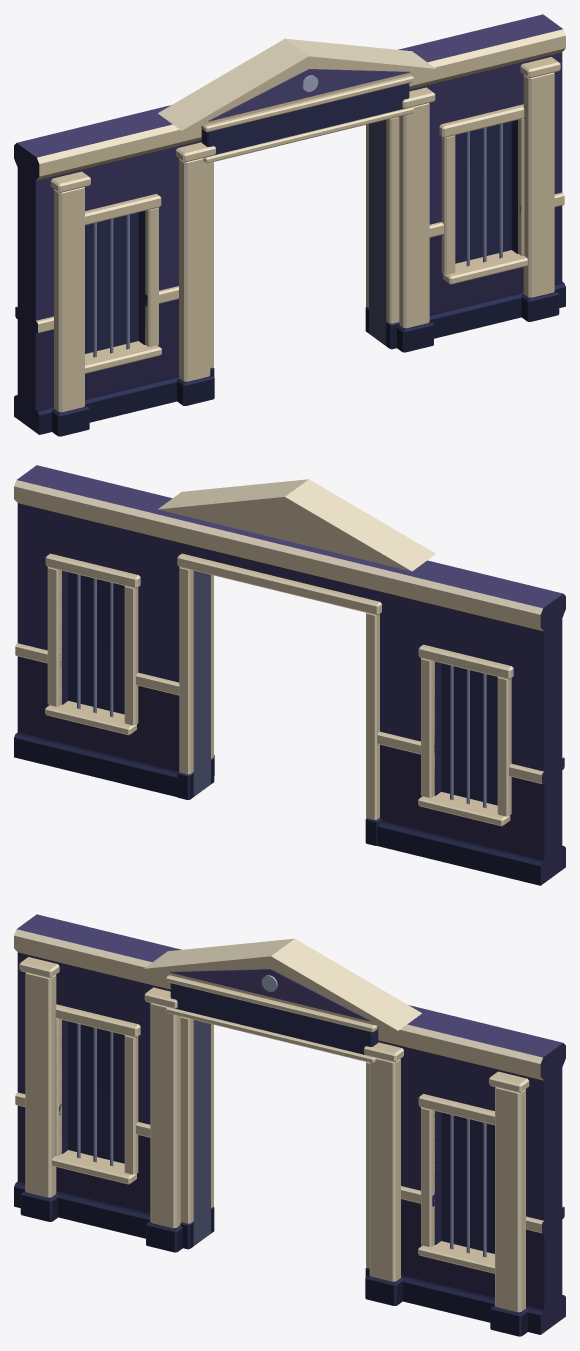
Rendered from BankFront_24x12.fbx.
3 views of the same model, one above another, from view 1: azimuth 30°, elevation 25°; view 2: azimuth 150°, elevation 25°; view 3: azimuth 330°, elevation 25° (orthographic).
Parts seen in each view (by area): view 1: BankFront_24x12; view 2: BankFront_24x12; view 3: BankFront_24x12.
Boxes of the visible parts, x1,y1,x2,y2 form: BankFront_24x12: (14,14,565,436); BankFront_24x12: (14,465,565,885); BankFront_24x12: (14,914,565,1336).
Bounding box in the file's own units: 24 × 13.9 × 2.94.
1 material, 1 textured.
